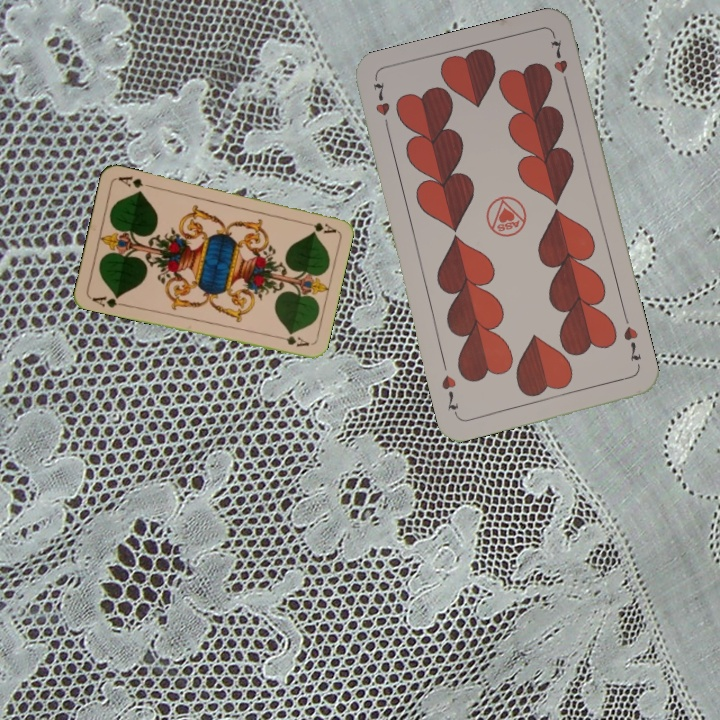GA: (88, 291, 128, 310), (298, 218, 338, 236)
H7: (369, 76, 393, 135), (619, 312, 644, 364)
